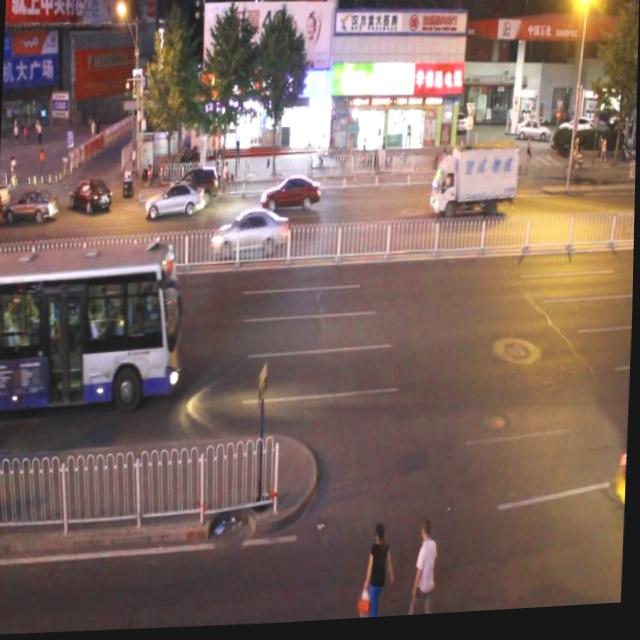bus: (429, 147, 518, 224)
car: (211, 206, 291, 262), (145, 180, 206, 224), (165, 164, 220, 210), (5, 184, 62, 228), (261, 176, 322, 216), (69, 176, 114, 216)
van: (0, 237, 186, 406)
